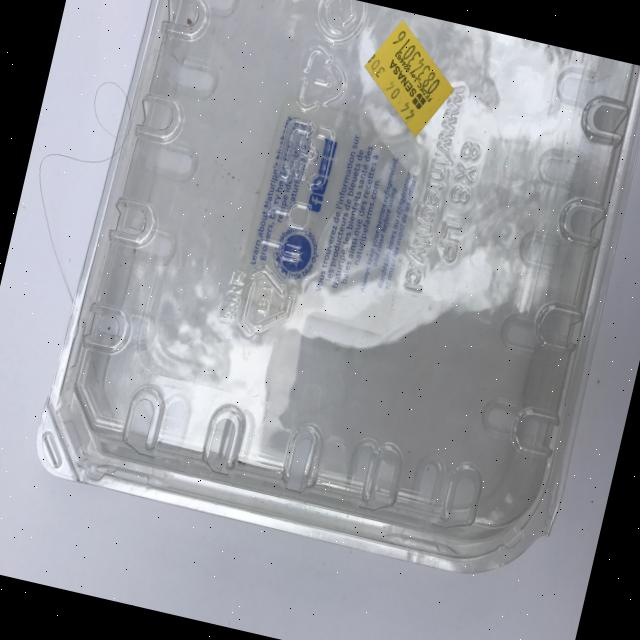plastic: (29, 0, 640, 587)
